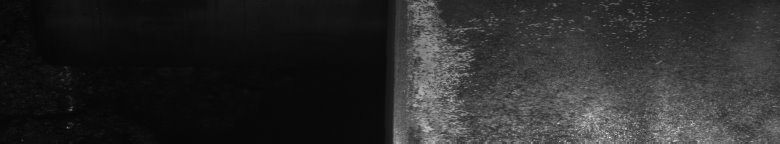kb: (407, 4, 752, 136)
